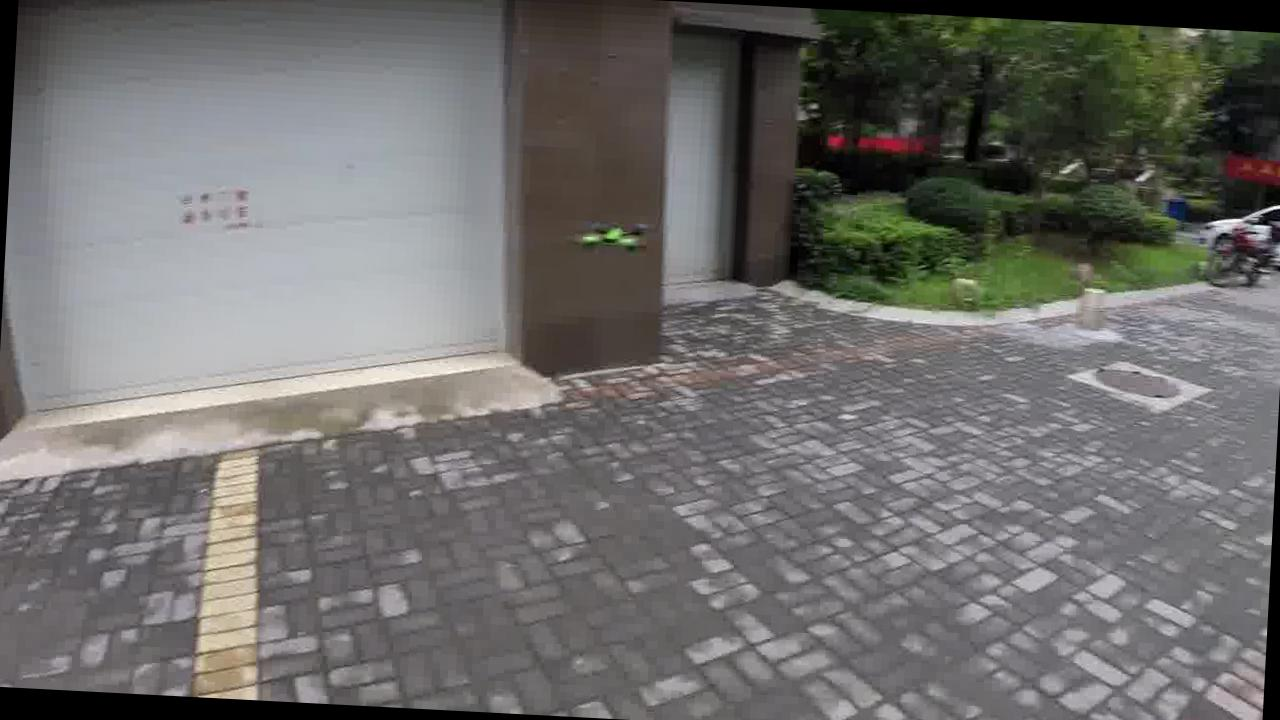drone: (572, 204, 653, 268)
